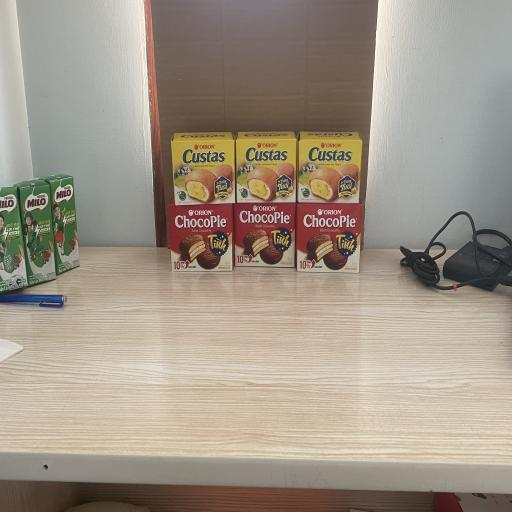chocopie: (296, 202, 363, 273), (169, 202, 234, 272), (234, 202, 296, 268)
custas: (171, 132, 236, 206), (298, 132, 362, 204), (236, 132, 298, 203)
milo: (17, 178, 57, 286), (45, 174, 80, 276), (0, 184, 29, 294)
